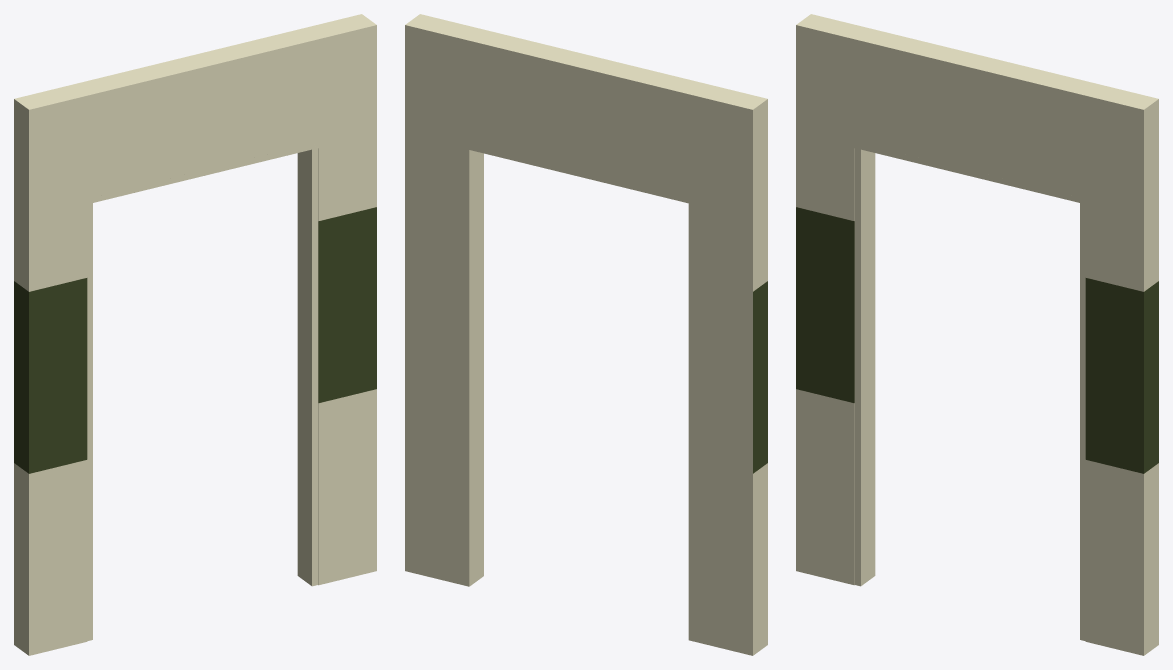
Rendered from InteriorWall_Door_Str_ExportPrep.gltf.
3 renders of one model, left to right at view 1: azimuth 30°, elevation 25°; view 2: azimuth 150°, elevation 25°; view 3: azimuth 330°, elevation 25°, orthographic.
Parts seen in each view (by area): view 1: InteriorWall_Door_Str; view 2: InteriorWall_Door_Str; view 3: InteriorWall_Door_Str.
Part boxes in pixels (x1,y1,x2,y2): InteriorWall_Door_Str: (14,14,376,655); InteriorWall_Door_Str: (405,14,767,655); InteriorWall_Door_Str: (796,14,1158,655).
Bounding box in the file's own units: 2 × 3 × 0.15.
